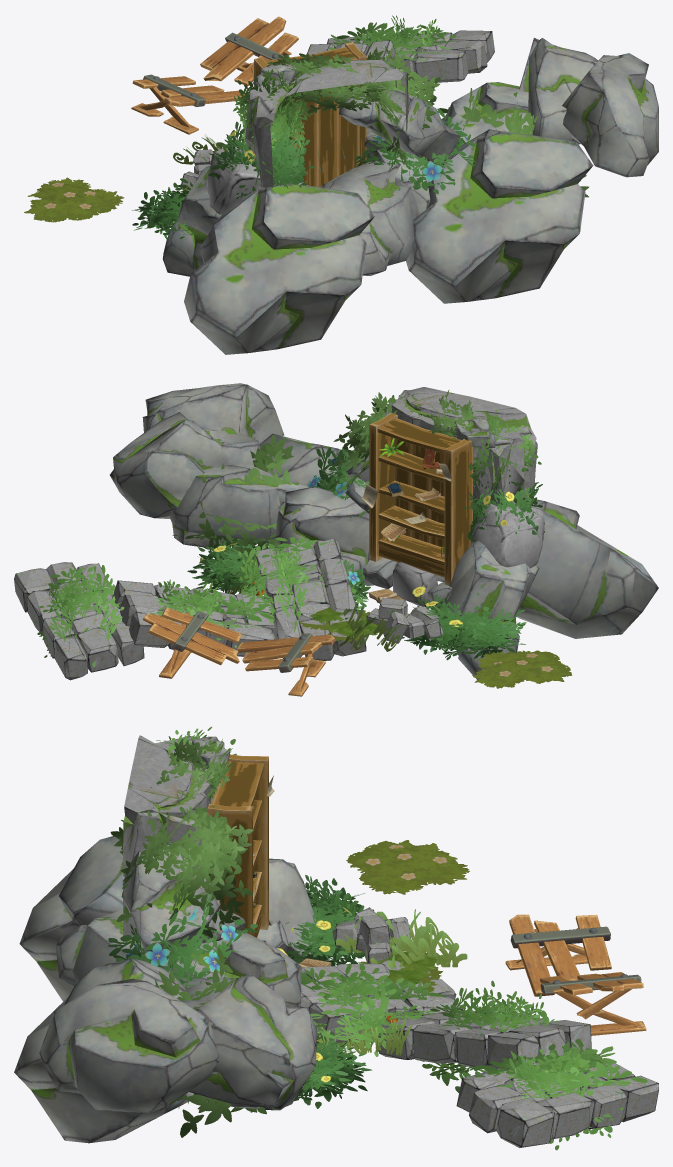
The model's file is MainCityDecor_Archive_Ruins.glb.
3 renders of one model, top to bottom at view 1: azimuth 30°, elevation 25°; view 2: azimuth 150°, elevation 25°; view 3: azimuth 270°, elevation 25°, orthographic. The views are drawn at different scales.
Parts seen in each view (by area): view 1: SM_Gray_Stone_Small_02_LOD0__un8655092593071126984, SM_Gray_Stone_Small_02_LOD0__u7281980972810077752, SM_Gray_Stone_Small_02_LOD0_1__un998805974291675592, EnvCampsite_Detail__Table__2__un4570328500955281864, SM_Gray_Stone_Small_02_LOD0__un5967246512860068296, SM_PROP_bookshelf_dungeon_02__un1380957041290803656, EnvCampsite_Detail__Stone__11__u159130066265802296, SM_Gray_Stone_Small_02_LOD0_2__u7268824977400301112, SM_Gray_Stone_Small_03_LOD0__un6176307089505745352, EnvCampsite_Detail__Brickwall__2__u3790002351883126328, SM_Gray_Stone_Small_03_LOD0__u8179978332789704248, EnvDetail__Bush___221__un600120590284454344 (+14 smaller); view 2: SM_PROP_bookshelf_dungeon_02__un1380957041290803656, SM_Gray_Stone_Small_02_LOD0__un8655092593071126984, SM_Gray_Stone_Small_02_LOD0_2__u7268824977400301112, EnvCampsite_Detail__Brickwall__2__u3790002351883126328, EnvCampsite_Detail__Brickwall__2_2__u3252978853584864824, EnvCampsite_Detail__Stone__11__u159130066265802296, SM_Gray_Stone_Small_02_LOD0__un4402658108935666120, EnvCampsite_Detail__Table__2__un4570328500955281864, SM_Gray_Stone_Small_02_LOD0_1__un998805974291675592, SM_Gray_Stone_Small_03_LOD0__u8179978332789704248, SM_Gray_Stone_Small_02_LOD0__un6043709582399601096, EnvCampsite_Detail__Brickwall__2_1__u2011206680735483448 (+21 smaller); view 3: SM_Gray_Stone_Small_02_LOD0_1__un998805974291675592, SM_Gray_Stone_Small_02_LOD0_2__u7268824977400301112, EnvCampsite_Detail__Brickwall__2__u3790002351883126328, EnvCampsite_Detail__Table__2__un4570328500955281864, EnvDetail__Bush___20__un8722124449784822216, SM_Gray_Stone_Small_02_LOD0__u7281980972810077752, EnvCampsite_Detail__Brickwall__2_1__u2011206680735483448, SM_Gray_Stone_Small_02_LOD0__un8655092593071126984, EnvCampsite_Detail__Stone__11__u159130066265802296, SM_PROP_bookshelf_dungeon_02__un1380957041290803656, EnvDetail__Bush___22_2__un2394847254028646856, EnvDetail__Bush___22_1__un5462285566201723336 (+16 smaller).
Part boxes in pixels (x1=…): SM_Gray_Stone_Small_02_LOD0__un8655092593071126984: x1=184, y1=183, x2=374, y2=354; SM_Gray_Stone_Small_02_LOD0__u7281980972810077752: x1=406, y1=129, x2=593, y2=303; SM_Gray_Stone_Small_02_LOD0_1__un998805974291675592: x1=562, y1=53, x2=658, y2=177; EnvCampsite_Detail__Table__2__un4570328500955281864: x1=131, y1=16, x2=298, y2=134; SM_Gray_Stone_Small_02_LOD0__un5967246512860068296: x1=321, y1=160, x2=419, y2=275; SM_PROP_bookshelf_dungeon_02__un1380957041290803656: x1=254, y1=42, x2=366, y2=187; EnvCampsite_Detail__Stone__11__u159130066265802296: x1=245, y1=60, x2=410, y2=187; SM_Gray_Stone_Small_02_LOD0_2__u7268824977400301112: x1=519, y1=38, x2=597, y2=144; SM_Gray_Stone_Small_03_LOD0__un6176307089505745352: x1=339, y1=82, x2=459, y2=164; EnvCampsite_Detail__Brickwall__2__u3790002351883126328: x1=327, y1=30, x2=494, y2=83; SM_Gray_Stone_Small_03_LOD0__u8179978332789704248: x1=162, y1=165, x2=307, y2=276; EnvDetail__Bush___221__un600120590284454344: x1=208, y1=121, x2=314, y2=199; SM_PROP_bookshelf_dungeon_02__un1380957041290803656: x1=369, y1=413, x2=472, y2=585; SM_Gray_Stone_Small_02_LOD0__un8655092593071126984: x1=516, y1=499, x2=658, y2=638; SM_Gray_Stone_Small_02_LOD0_2__u7268824977400301112: x1=110, y1=412, x2=259, y2=519; EnvCampsite_Detail__Brickwall__2__u3790002351883126328: x1=14, y1=562, x2=144, y2=680; EnvCampsite_Detail__Brickwall__2_2__u3252978853584864824: x1=254, y1=539, x2=366, y2=660; EnvCampsite_Detail__Stone__11__u159130066265802296: x1=384, y1=387, x2=537, y2=528; SM_Gray_Stone_Small_02_LOD0__un4402658108935666120: x1=170, y1=462, x2=308, y2=547; EnvCampsite_Detail__Table__2__un4570328500955281864: x1=142, y1=607, x2=335, y2=696; SM_Gray_Stone_Small_02_LOD0_1__un998805974291675592: x1=142, y1=383, x2=284, y2=444; SM_Gray_Stone_Small_03_LOD0__u8179978332789704248: x1=446, y1=540, x2=539, y2=679; SM_Gray_Stone_Small_02_LOD0__un6043709582399601096: x1=275, y1=486, x2=369, y2=573; EnvCampsite_Detail__Brickwall__2_1__u2011206680735483448: x1=112, y1=580, x2=275, y2=656; SM_Gray_Stone_Small_02_LOD0_1__un998805974291675592: x1=39, y1=978, x2=219, y2=1113; SM_Gray_Stone_Small_02_LOD0_2__u7268824977400301112: x1=181, y1=974, x2=316, y2=1109; EnvCampsite_Detail__Brickwall__2__u3790002351883126328: x1=456, y1=1052, x2=658, y2=1147; EnvCampsite_Detail__Table__2__un4570328500955281864: x1=505, y1=914, x2=646, y2=1035; EnvDetail__Bush___20__un8722124449784822216: x1=110, y1=806, x2=253, y2=938; SM_Gray_Stone_Small_02_LOD0__u7281980972810077752: x1=14, y1=958, x2=193, y2=1143; EnvCampsite_Detail__Brickwall__2_1__u2011206680735483448: x1=378, y1=1009, x2=591, y2=1069; SM_Gray_Stone_Small_02_LOD0__un8655092593071126984: x1=19, y1=835, x2=123, y2=1001; EnvCampsite_Detail__Stone__11__u159130066265802296: x1=122, y1=735, x2=219, y2=941; SM_PROP_bookshelf_dungeon_02__un1380957041290803656: x1=207, y1=754, x2=268, y2=937; EnvDetail__Bush___22_2__un2394847254028646856: x1=301, y1=963, x2=445, y2=1056; EnvDetail__Bush___22_1__un5462285566201723336: x1=474, y1=1039, x2=647, y2=1150.
Bounding box in the file's own units: 11.3 × 5.04 × 9.59.
Materials: 18 (18 with a texture image).
